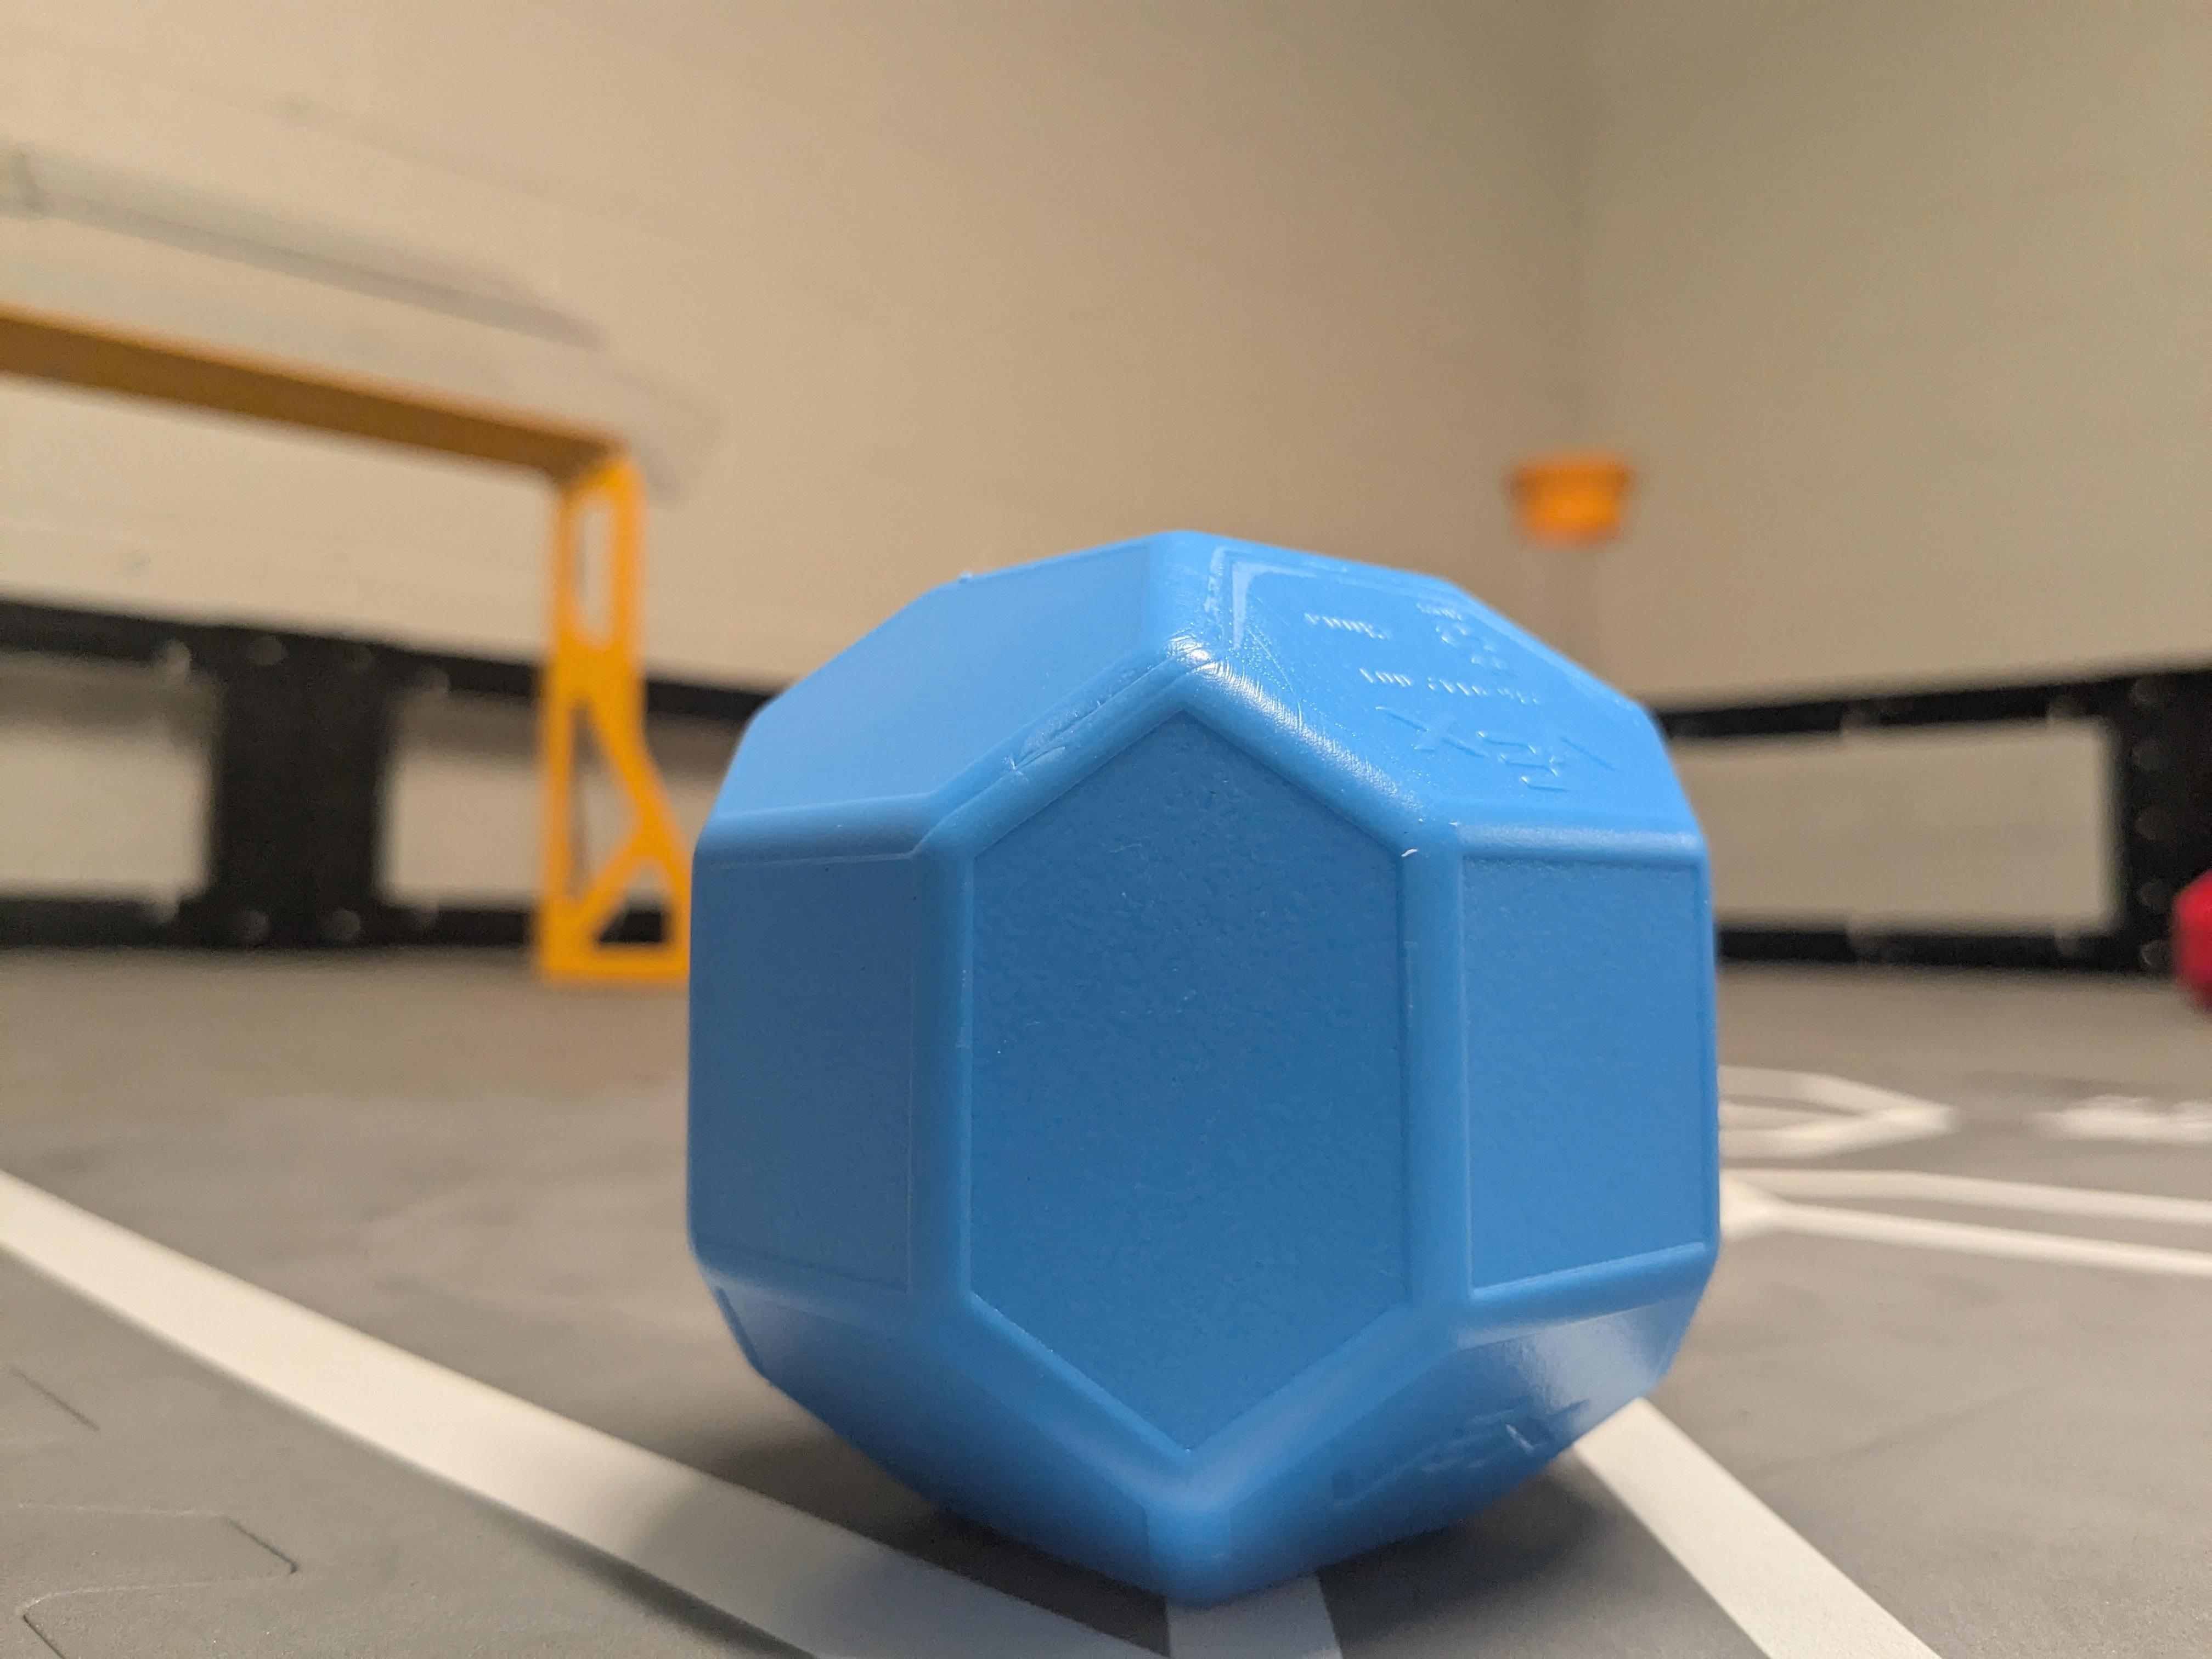Vex-Pieces-BLUE: (688, 533, 1719, 1601)
